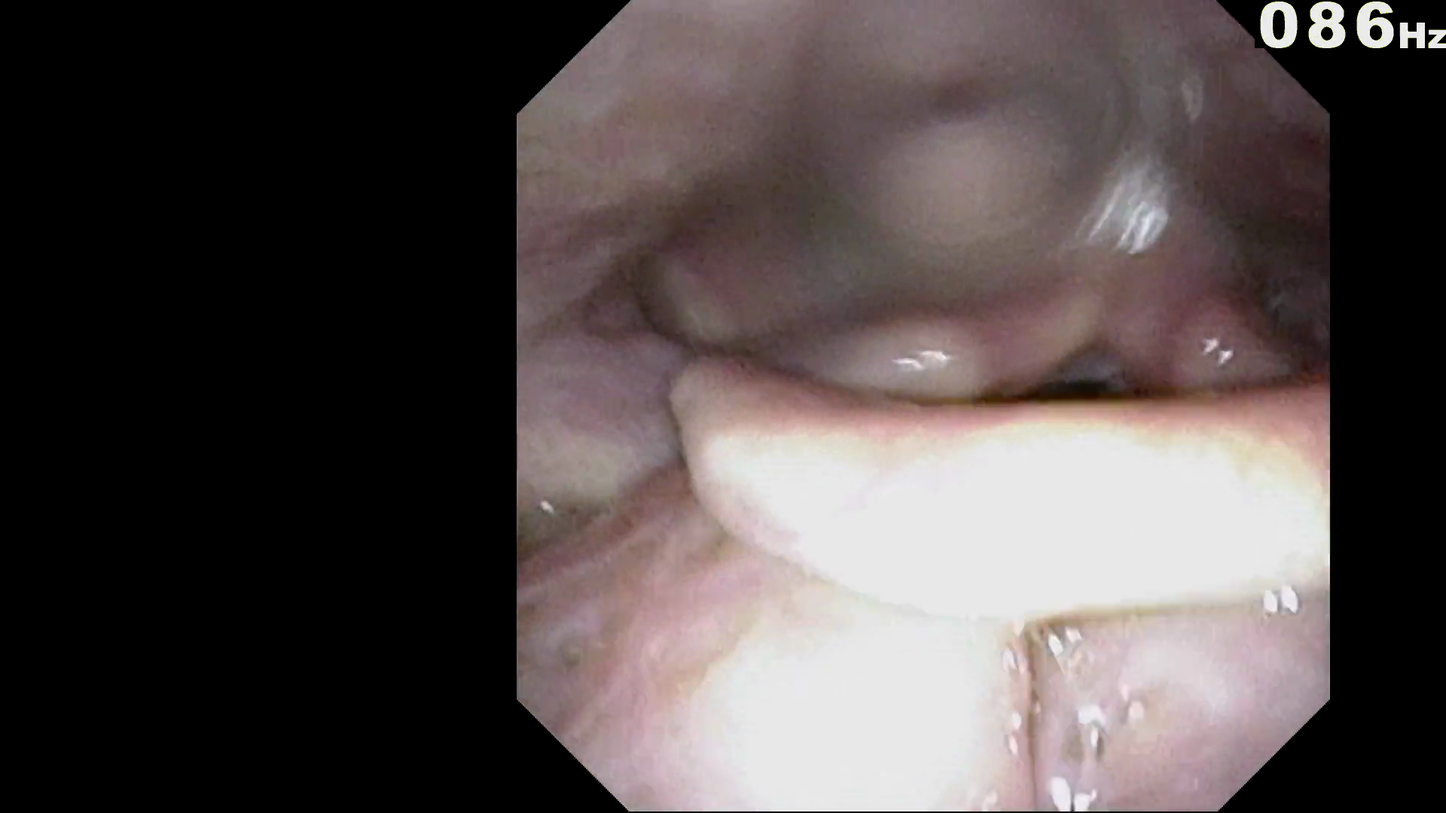epiglottis: (708, 359, 1311, 584)
trachea: (1048, 370, 1150, 455)
